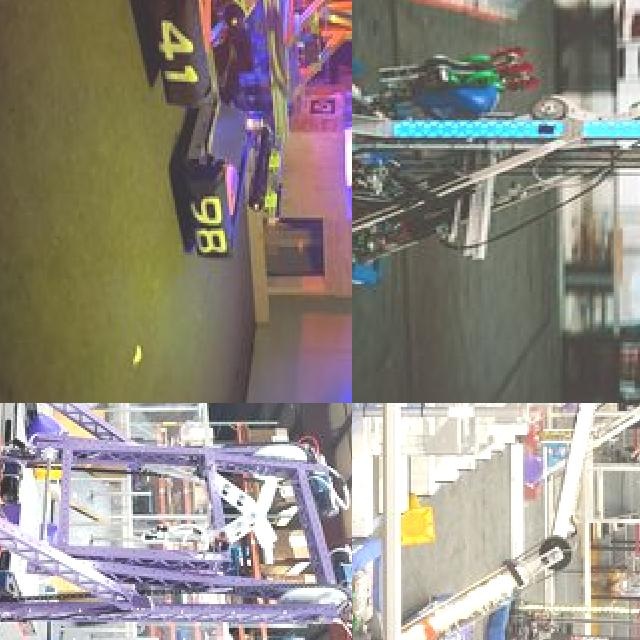FRC-Robots: (131, 0, 352, 403), (0, 403, 352, 640), (352, 41, 640, 293), (352, 403, 640, 640), (478, 572, 640, 640), (380, 577, 532, 640)
